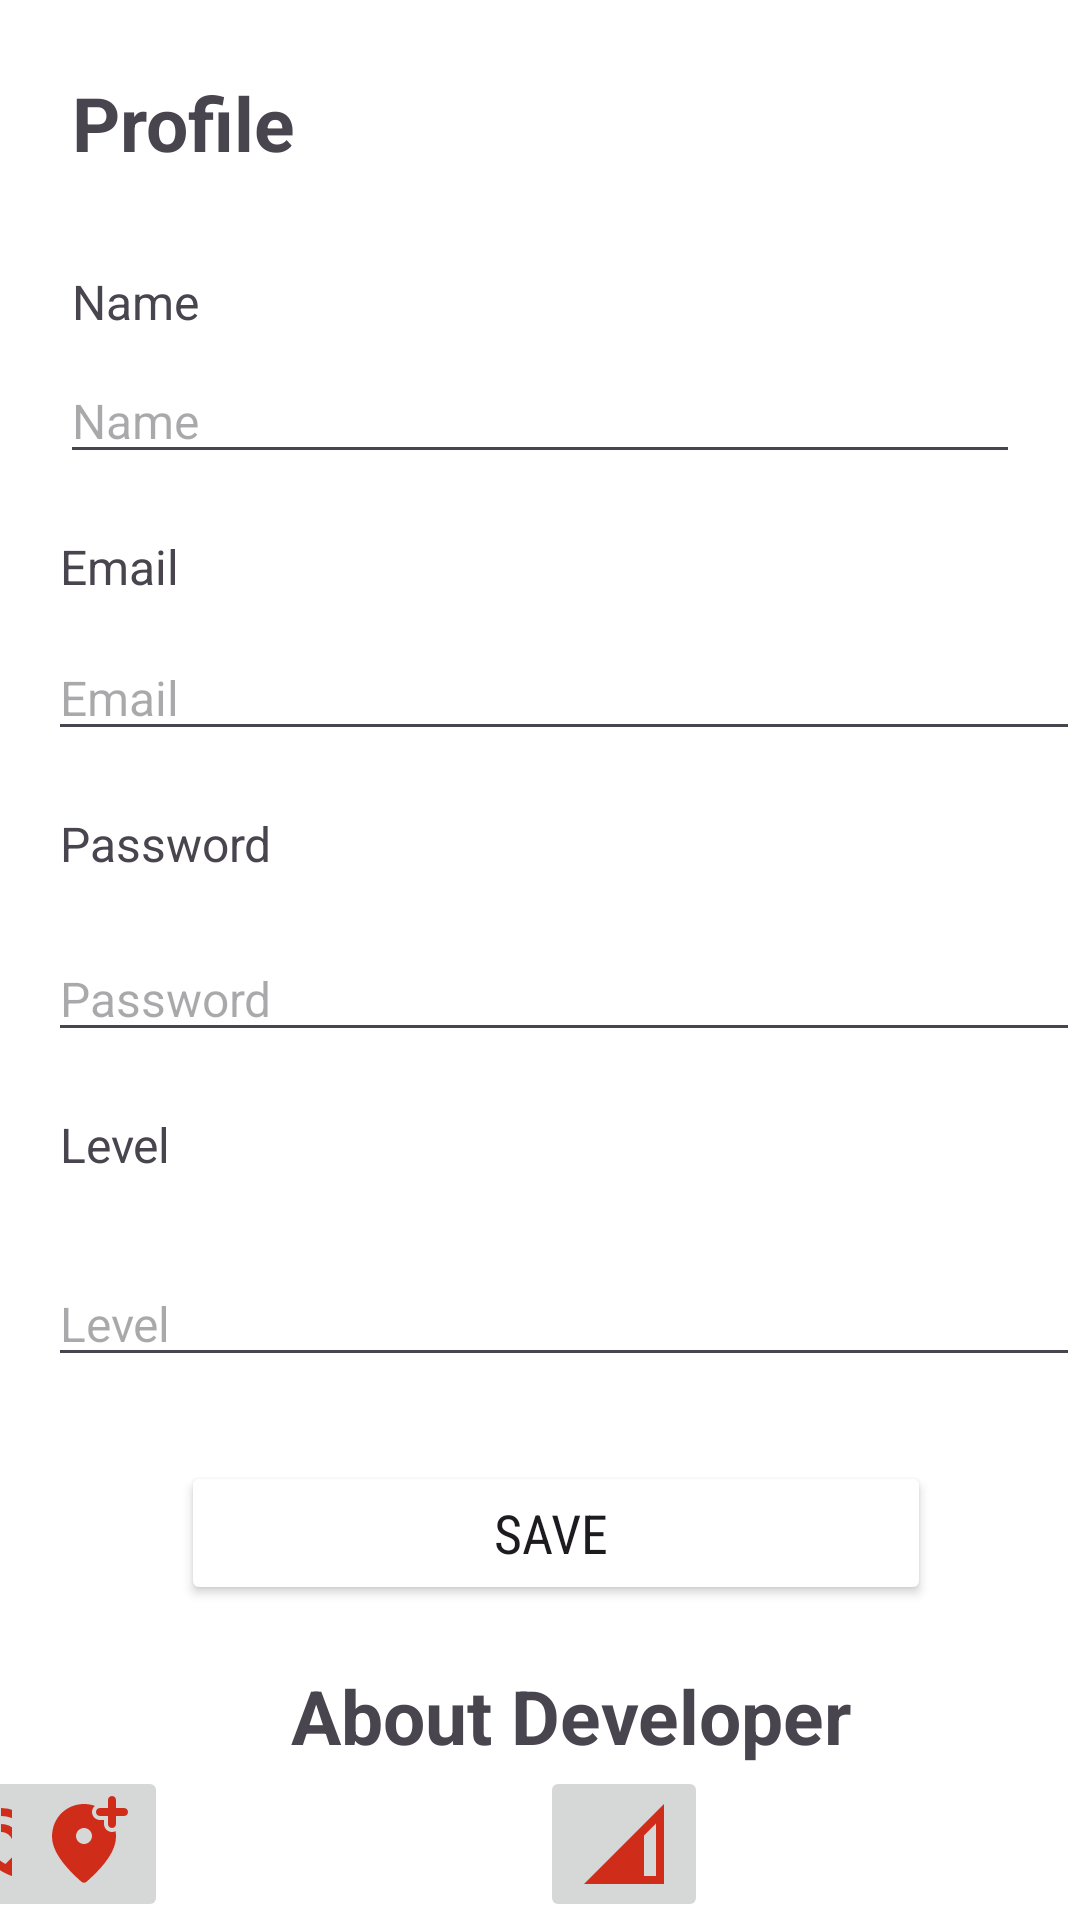

Screen size 1080×1920. Icon name, then its box in pixels as (x1, y1, x2, y2):
add location: (0, 1784, 156, 1904)
network cell: (552, 1784, 696, 1904)
